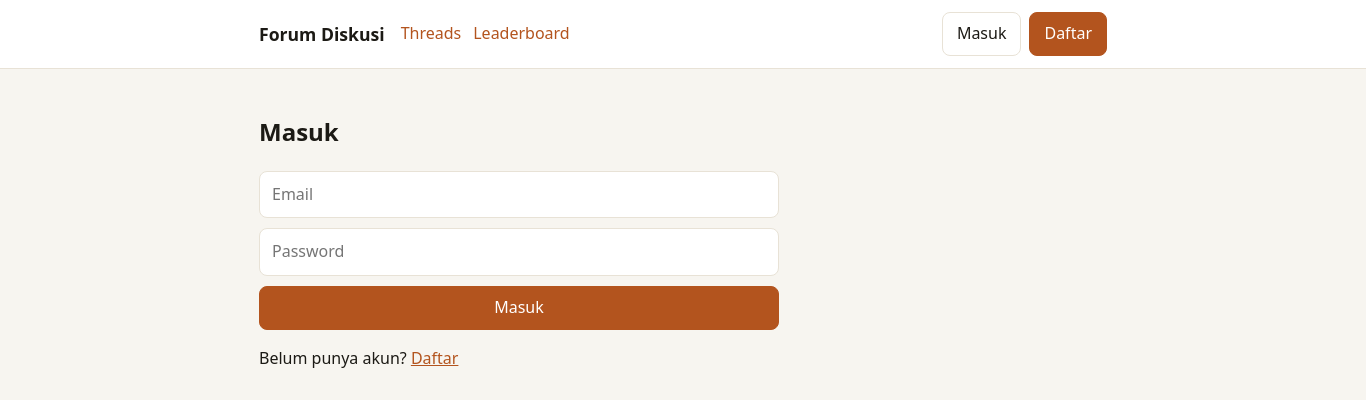
Test: Login spec › should redirect to homepage when email and password are correct
Type "dicoding@example.com" into the field with placeholder "Email" at (519, 195), box [259, 171, 779, 219]
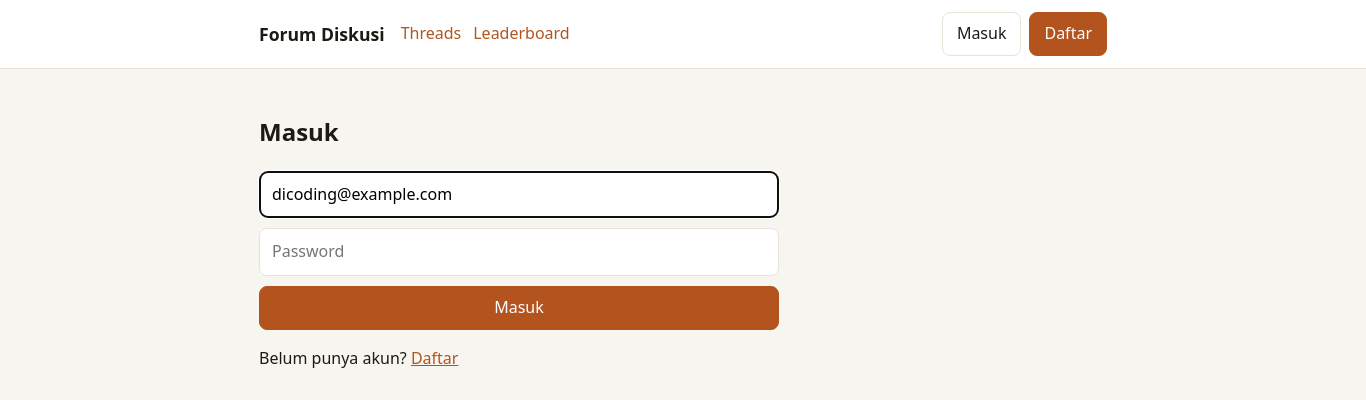
Type "passwordbenar" into the password field with placeholder "Password" at (519, 252), box [259, 228, 779, 276]
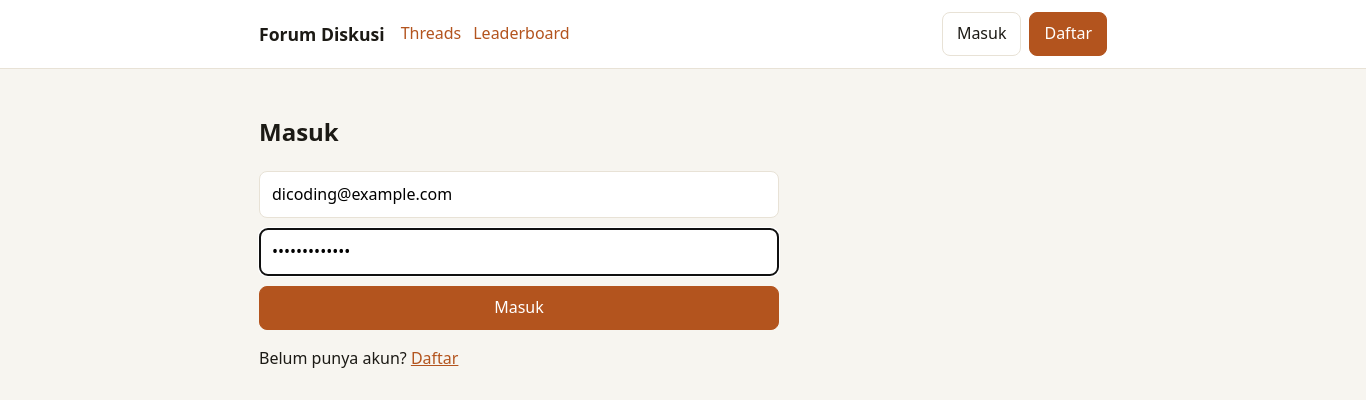
Click the button "Masuk" at (519, 308), box [259, 286, 779, 330]
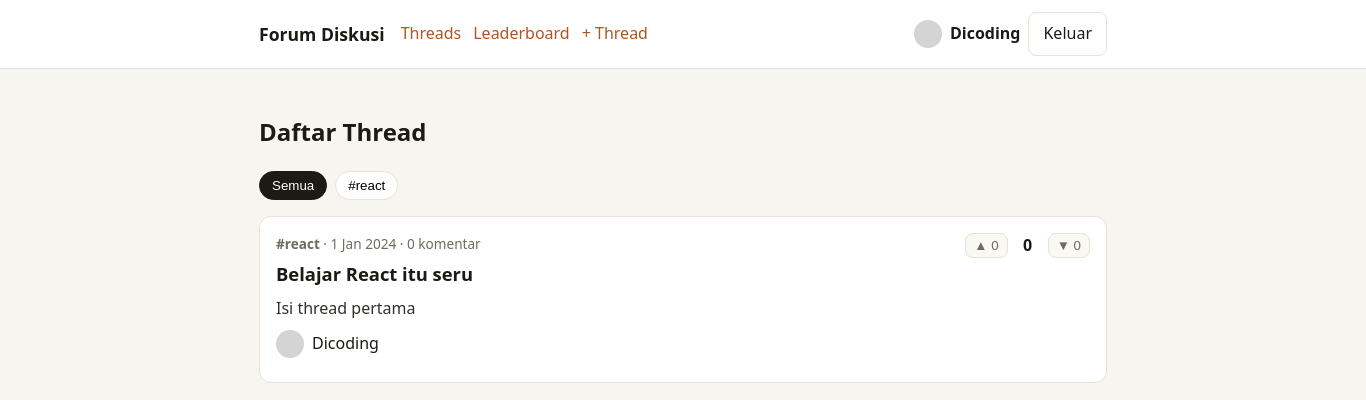
Expected: the heading "Daftar Thread" is shown, [259, 114, 426, 148]
Expected: the link "Belajar React itu seru" is shown, [276, 260, 473, 286]
